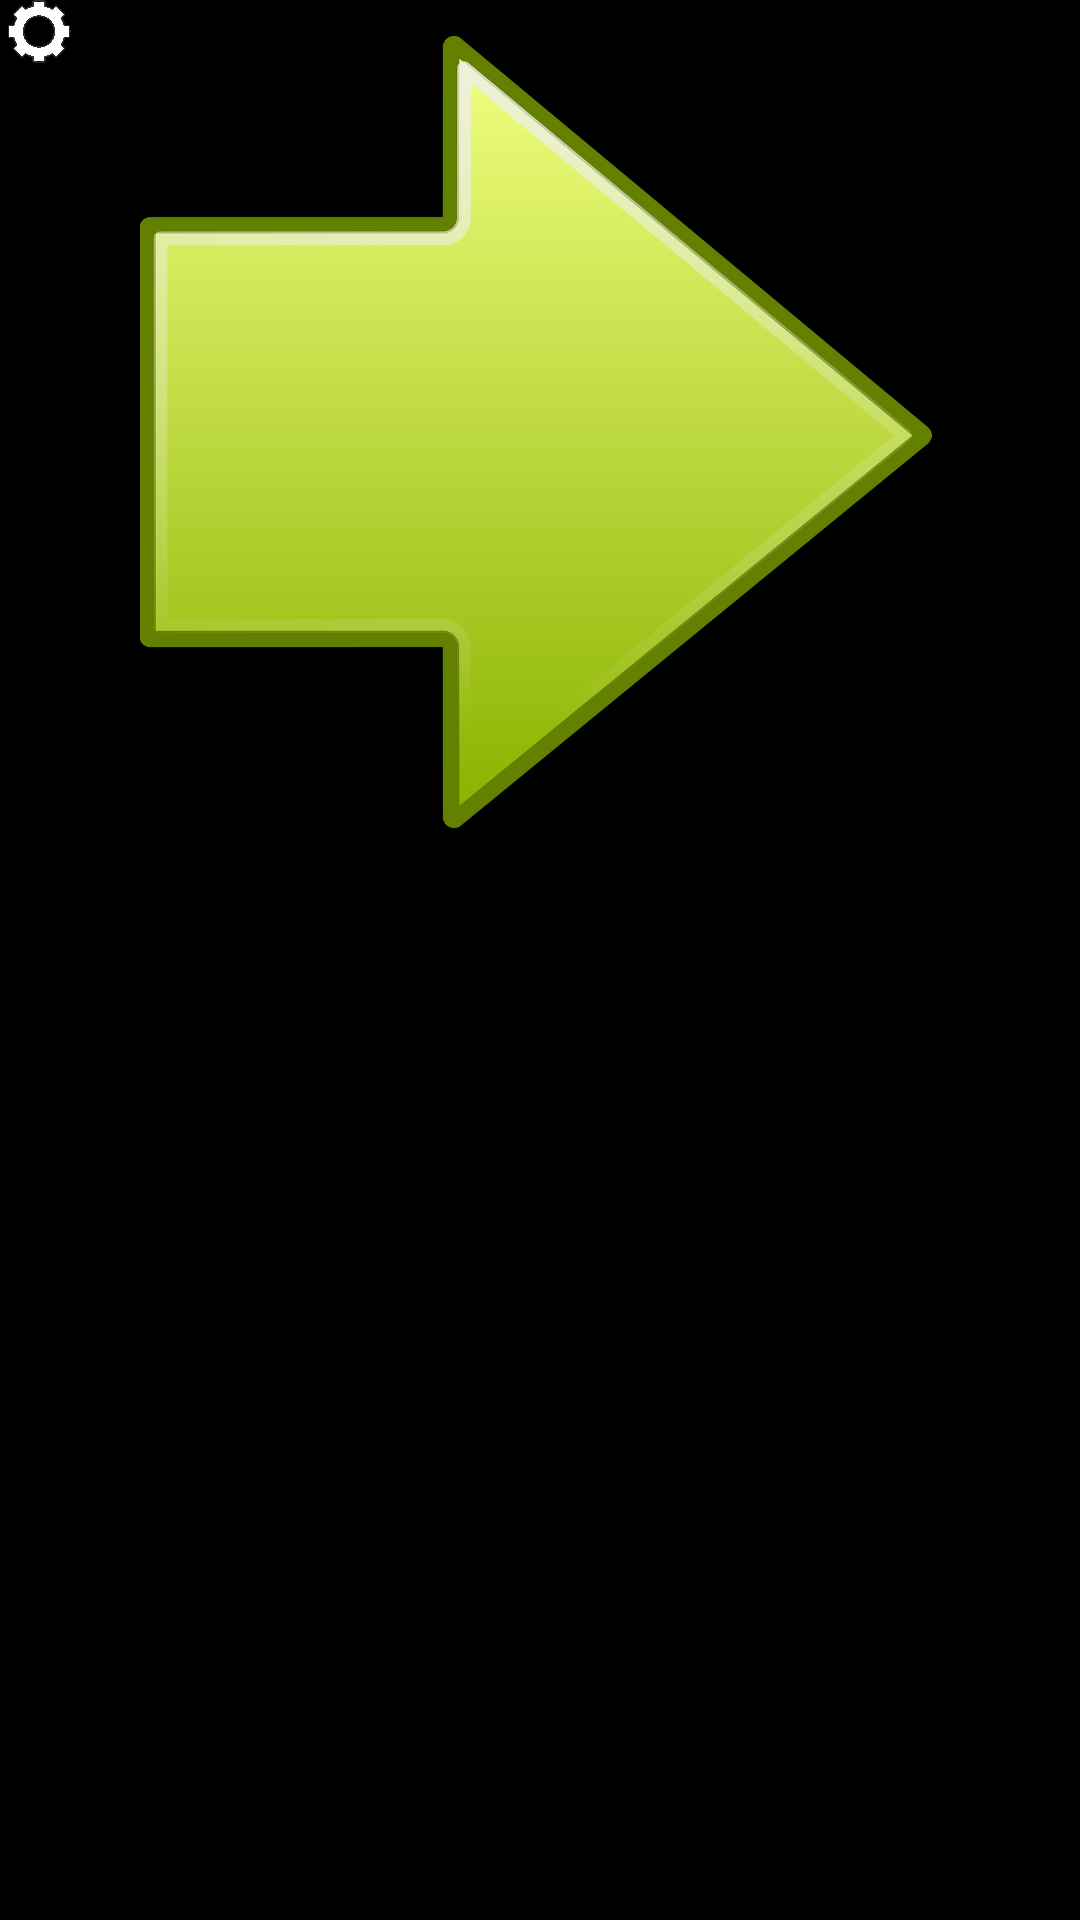

Icons on this 1080w x 1920h Android screen, each with the point to tap as [x,y]:
gear: [39,31]
